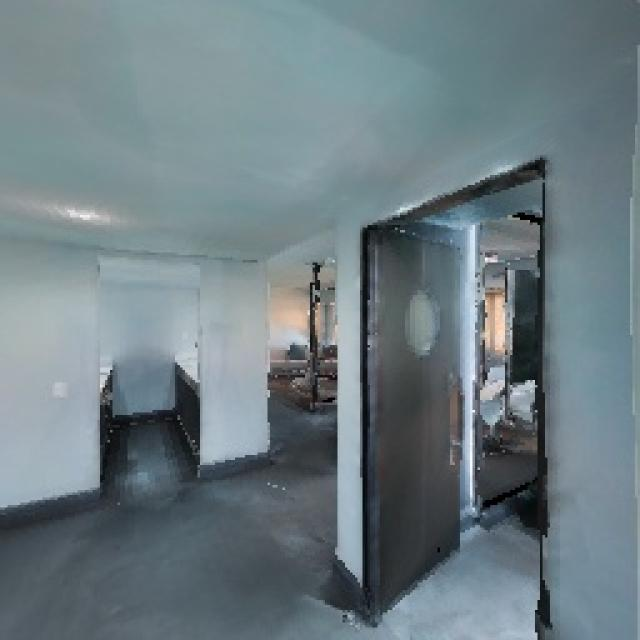door: (372, 222, 472, 588)
door-frame: (350, 150, 552, 640), (79, 245, 224, 500)
